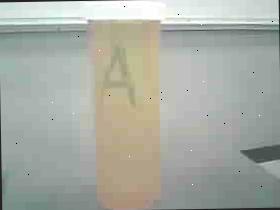Bottle A: (69, 0, 191, 210)
